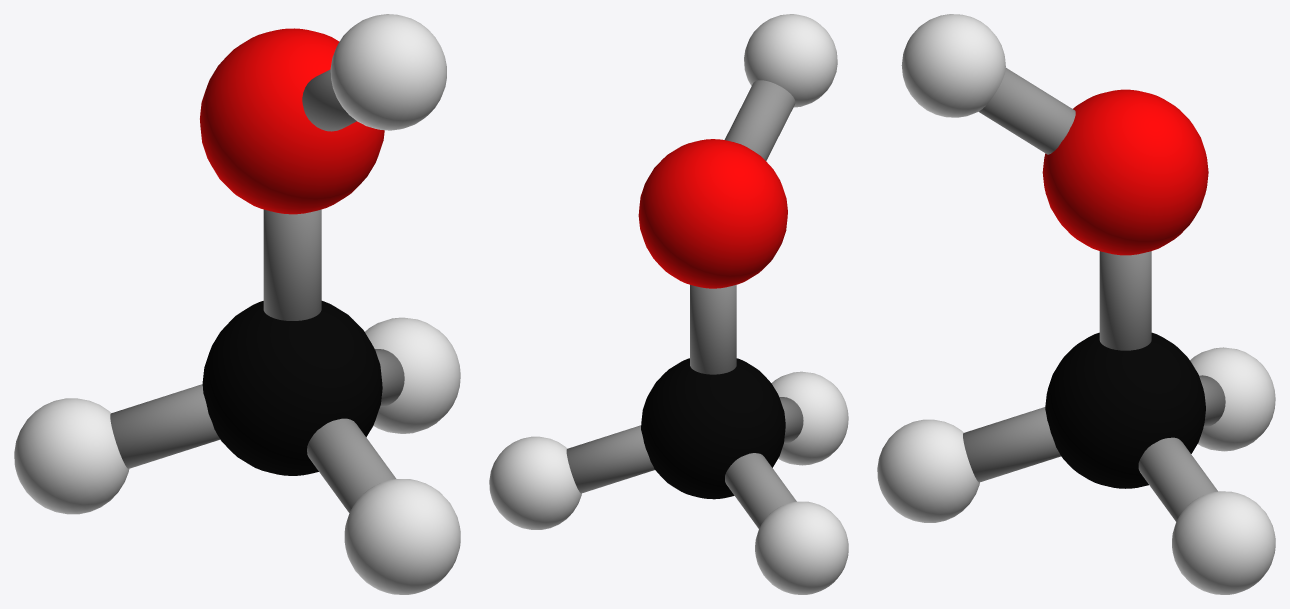
3 renders of one model, left to right at view 1: azimuth 30°, elevation 25°; view 2: azimuth 150°, elevation 25°; view 3: azimuth 270°, elevation 25°, orthographic. The views are drawn at different scales.
Visible parts, largest first — view 1: h1; view 2: h1; view 3: h1.
Part boxes in pixels (x1,y1,x2,y2): h1: (14,14,460,594); h1: (489,14,848,594); h1: (877,14,1275,594).
Size of the model in its own units: 427 by 530 by 383.
